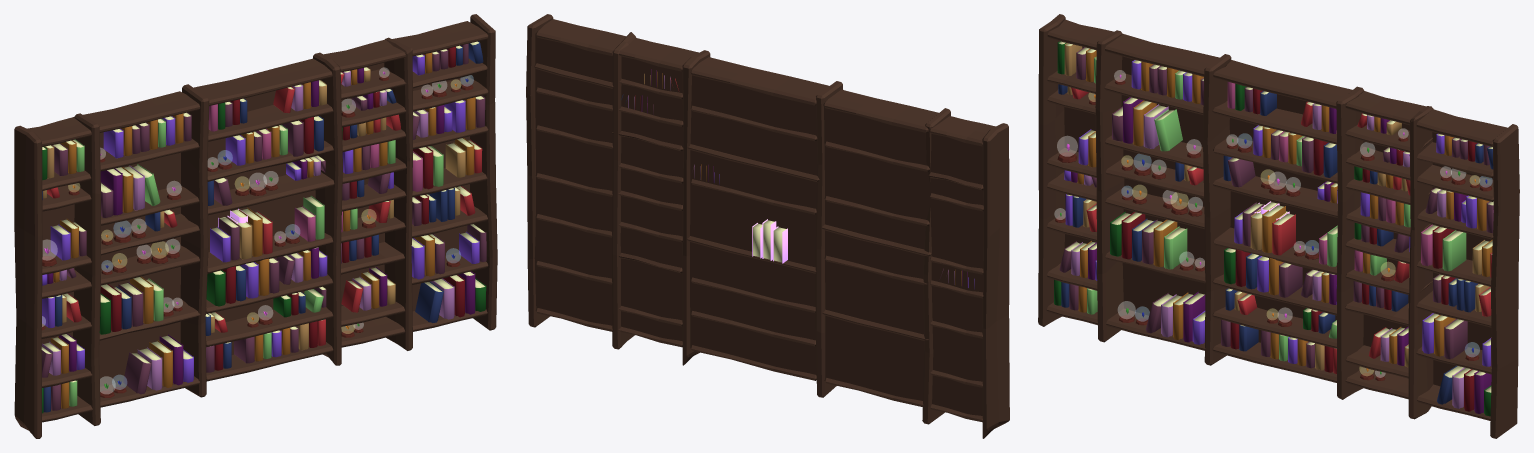
File: bookshelf big.fbx
3 renders of one model, left to right at view 1: azimuth 30°, elevation 25°; view 2: azimuth 150°, elevation 25°; view 3: azimuth 330°, elevation 25°, orthographic.
Visible parts, largest first — view 1: Cube.108; view 2: Cube.108; view 3: Cube.108.
Boxes of the visible parts, x1,y1,x2,y2 form: Cube.108: (14,14,497,438); Cube.108: (526,14,1009,438); Cube.108: (1038,14,1519,438).
Bounding box in the file's own units: 956 × 597 × 93.27.
